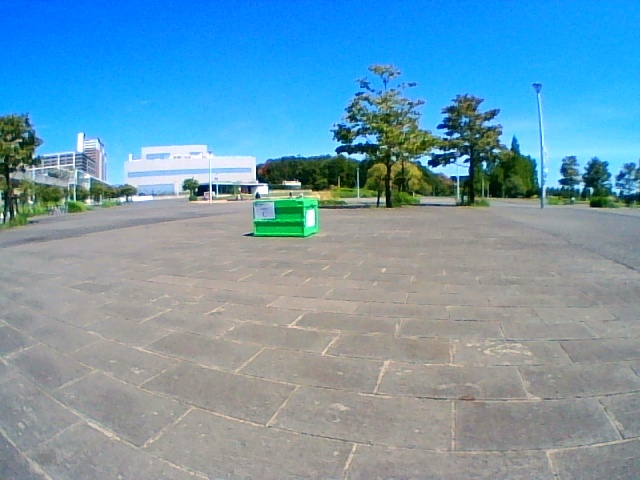green_box: (253, 198, 319, 238)
tag: (255, 203, 273, 219)
